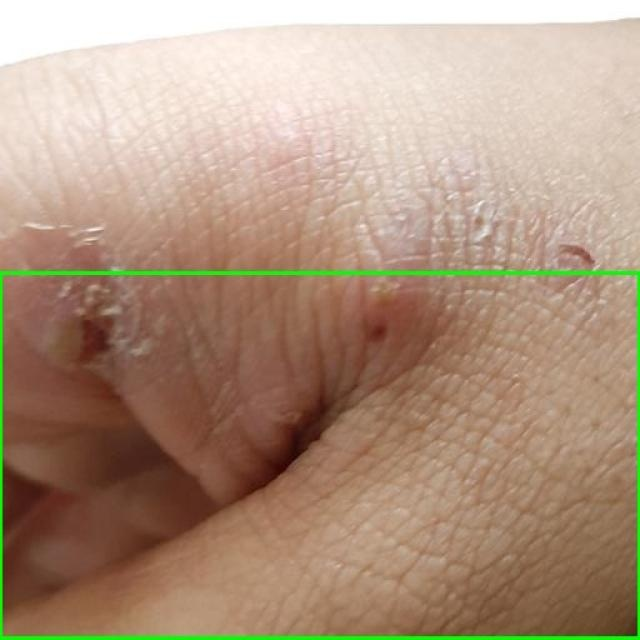Scabies: (0, 272, 639, 639)
